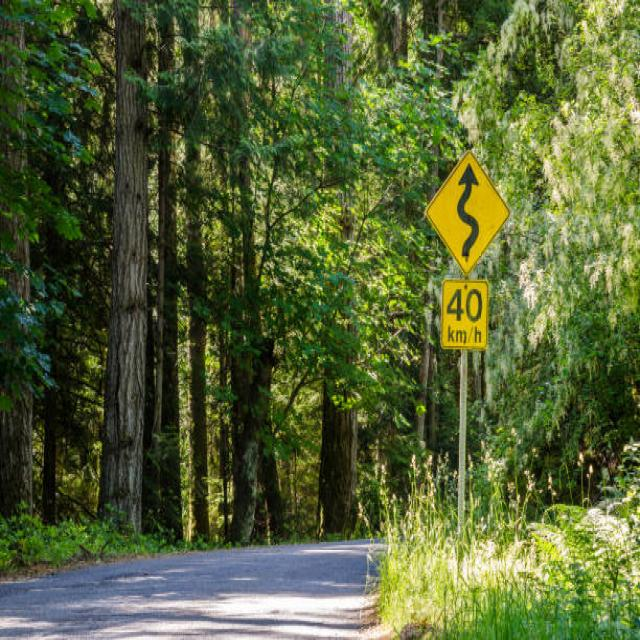left_sharp_curve: (416, 144, 514, 277)
